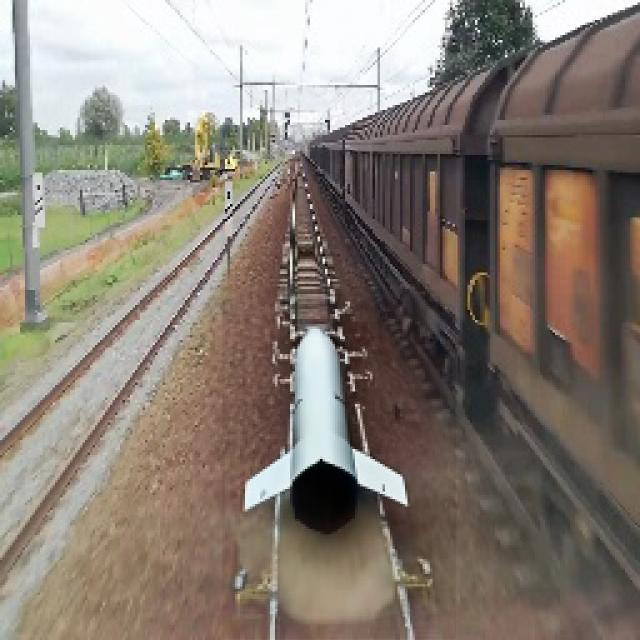rail: (223, 153, 457, 640)
